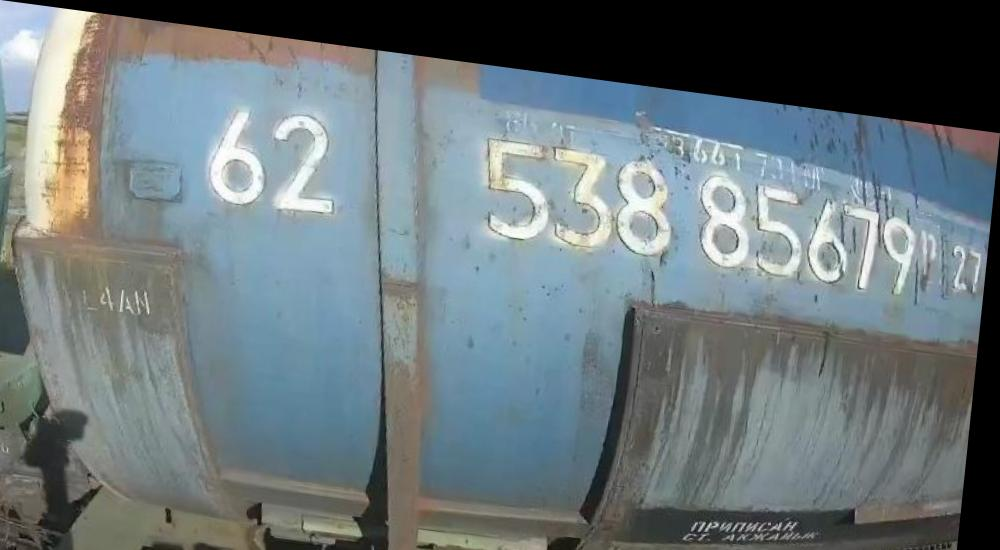Wagon-number: (479, 115, 925, 277)
